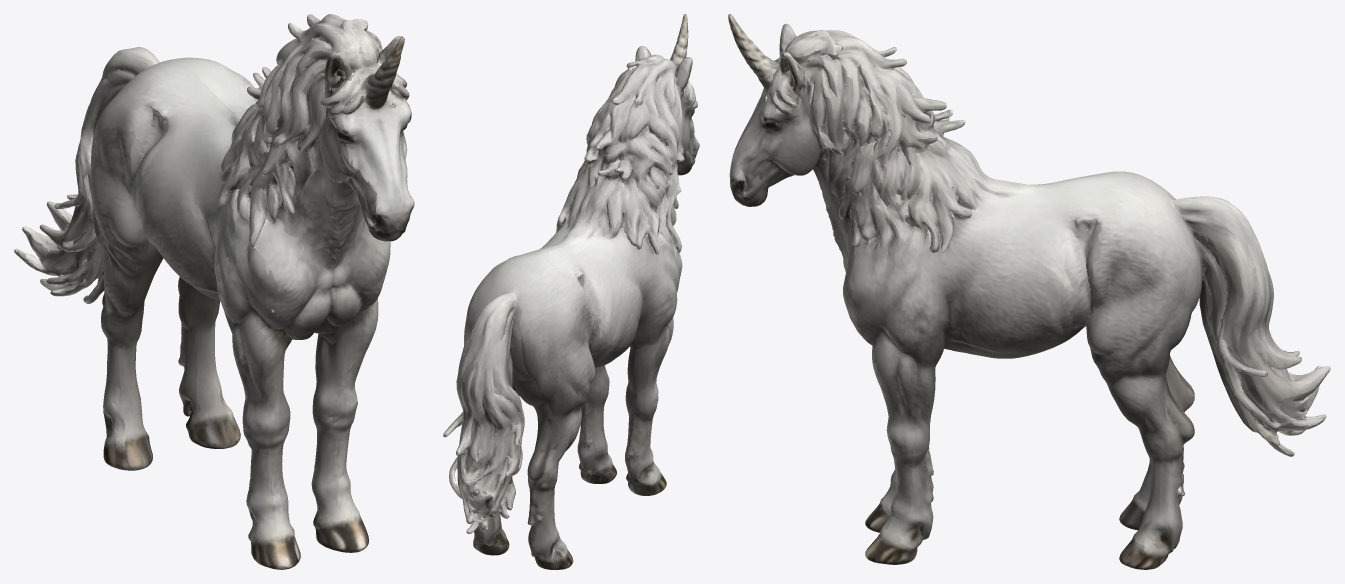
3 renders of one model, left to right at view 1: azimuth 30°, elevation 25°; view 2: azimuth 150°, elevation 25°; view 3: azimuth 270°, elevation 25°, orthographic. The views are drawn at different scales.
Visible parts, largest first — view 1: geometry_0; view 2: geometry_0; view 3: geometry_0.
Boxes of the visible parts, <box> form: geometry_0: <box>14,14,414,569</box>; geometry_0: <box>443,14,699,569</box>; geometry_0: <box>728,14,1330,569</box>.
Size of the model in its own units: 2.4 by 8.31 by 8.54.
1 material, 1 textured.
